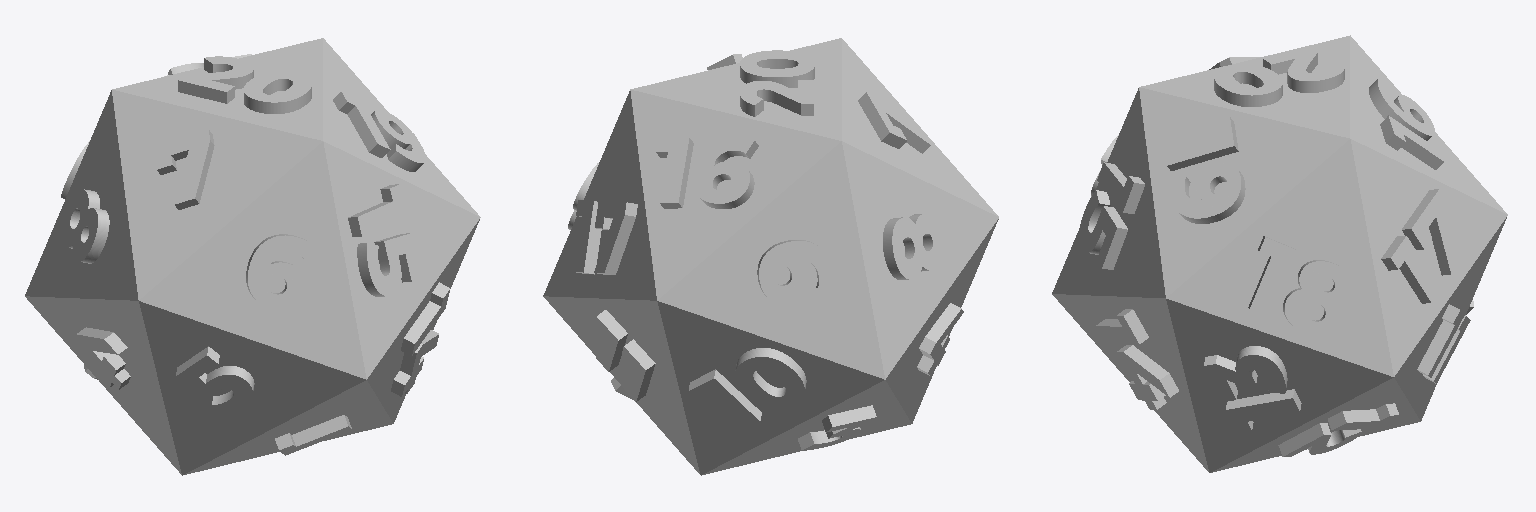
Rendered from dice.obj.
3 views of the same model, side by side, from view 1: azimuth 30°, elevation 25°; view 2: azimuth 150°, elevation 25°; view 3: azimuth 270°, elevation 25° (orthographic).
Visible parts, largest first — view 1: DICE_dice, DICE_IN_dice_in, n20, n15, n06, n19, n05, n07, n08, n14, n04, n01; view 2: DICE_dice, DICE_IN_dice_in, n16, n10, n20, n17, n09, n08, n11, n07, n03, n04; view 3: DICE_dice, DICE_IN_dice_in, n18, n19, n13, n20, n17, n15, n14, n16, n12, n11.
Boxes of the visible parts, x1=… form: DICE_dice: x1=25, y1=38, x2=479, y2=474; DICE_IN_dice_in: x1=25, y1=38, x2=480, y2=475; n20: x1=178, y1=56, x2=311, y2=113; n15: x1=348, y1=184, x2=421, y2=296; n06: x1=246, y1=234, x2=314, y2=309; n19: x1=333, y1=91, x2=425, y2=171; n05: x1=176, y1=346, x2=254, y2=416; n07: x1=153, y1=129, x2=214, y2=209; n08: x1=61, y1=189, x2=109, y2=263; n14: x1=391, y1=282, x2=450, y2=396; n04: x1=74, y1=327, x2=130, y2=389; n01: x1=275, y1=415, x2=351, y2=455; DICE_dice: x1=543, y1=38, x2=998, y2=475; DICE_IN_dice_in: x1=543, y1=39, x2=998, y2=474; n16: x1=656, y1=136, x2=758, y2=208; n10: x1=688, y1=348, x2=806, y2=428; n20: x1=740, y1=50, x2=814, y2=116; n17: x1=574, y1=200, x2=637, y2=274; n09: x1=757, y1=240, x2=834, y2=304; n08: x1=883, y1=213, x2=942, y2=279; n11: x1=594, y1=310, x2=655, y2=401; n07: x1=858, y1=92, x2=930, y2=153; n03: x1=798, y1=405, x2=876, y2=450; n04: x1=917, y1=303, x2=963, y2=375; DICE_dice: x1=1052, y1=36, x2=1506, y2=472; DICE_IN_dice_in: x1=1052, y1=35, x2=1507, y2=472; n18: x1=1248, y1=236, x2=1354, y2=336; n19: x1=1164, y1=117, x2=1245, y2=223; n13: x1=1204, y1=346, x2=1301, y2=433; n20: x1=1214, y1=47, x2=1344, y2=106; n17: x1=1381, y1=189, x2=1461, y2=303; n15: x1=1079, y1=162, x2=1144, y2=269; n14: x1=1096, y1=309, x2=1178, y2=409; n16: x1=1369, y1=78, x2=1443, y2=169; n12: x1=1278, y1=403, x2=1398, y2=456; n11: x1=1417, y1=304, x2=1470, y2=383.
Size of the model in its own units: 1.73 by 1.7 by 1.96.